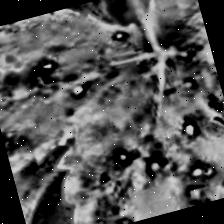Leaf Spot: (30, 36, 224, 224), (0, 0, 175, 176), (138, 0, 224, 172)
